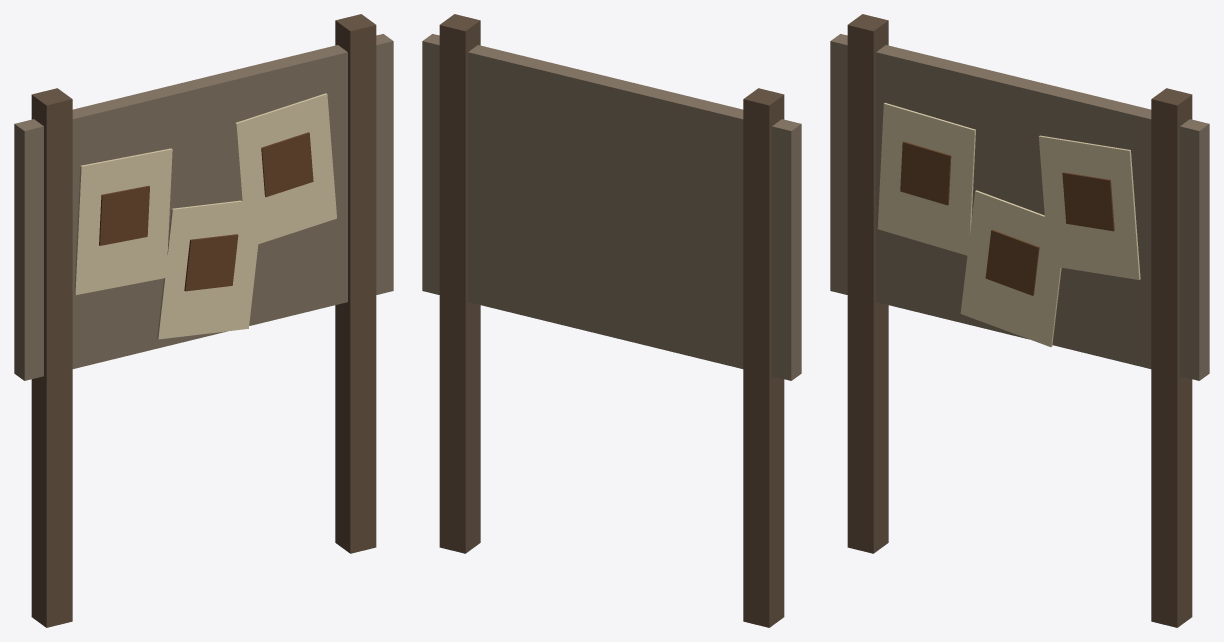
Rendered from SM_WantedBoard.fbx.
The picture shows the model from 3 angles, left to right: view 1: azimuth 30°, elevation 25°; view 2: azimuth 150°, elevation 25°; view 3: azimuth 330°, elevation 25°; orthographic projection.
Parts seen in each view (by area): view 1: WantedBoard; view 2: WantedBoard; view 3: WantedBoard.
Part boxes in pixels (x1,y1,x2,y2): WantedBoard: [14, 14, 393, 627]; WantedBoard: [422, 14, 801, 627]; WantedBoard: [830, 14, 1209, 627].
Size of the model in its own units: 170 by 12.3 by 230.
